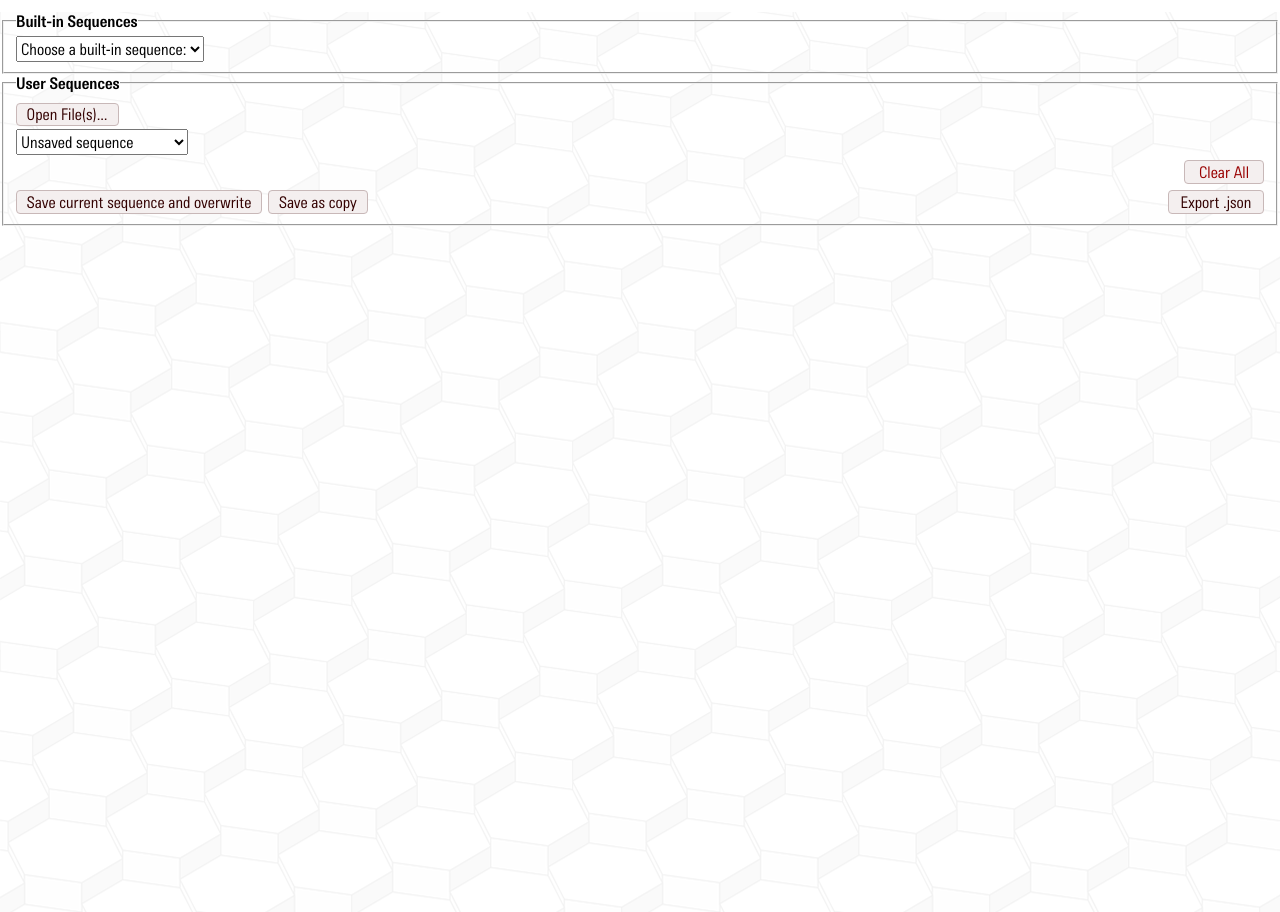
Test case: SequenceLibrary › saves a copy under a unique name
Click the button "Save as copy" at (318, 202), box [268, 190, 368, 214]
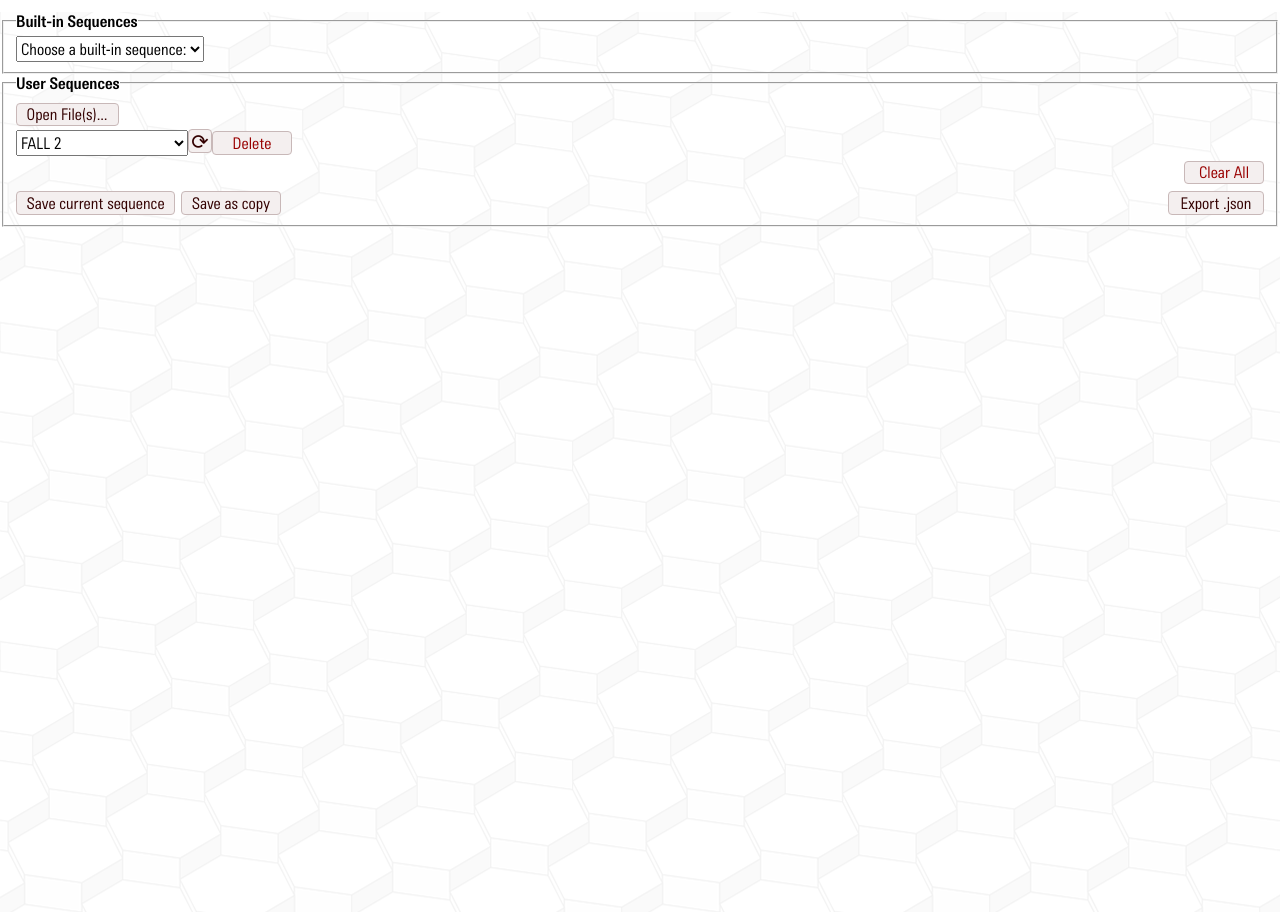
Now the dropdown named "User sequences" shows "FALL 2", box [16, 130, 188, 156]
